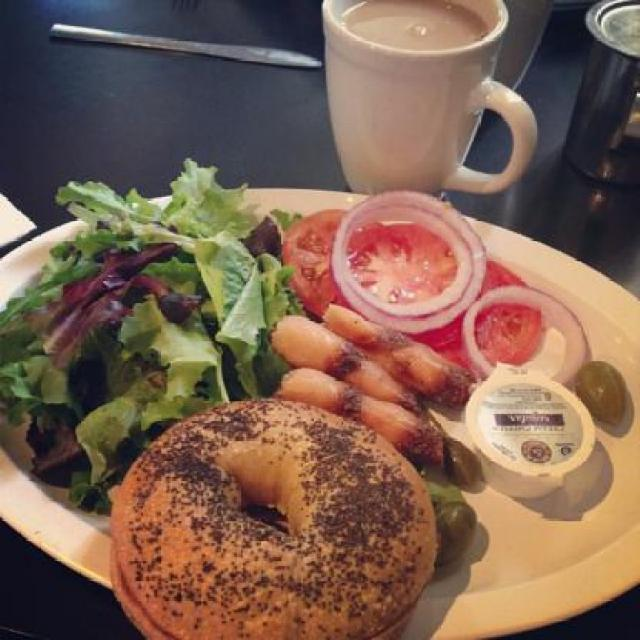Bagel: (110, 398, 438, 640)
